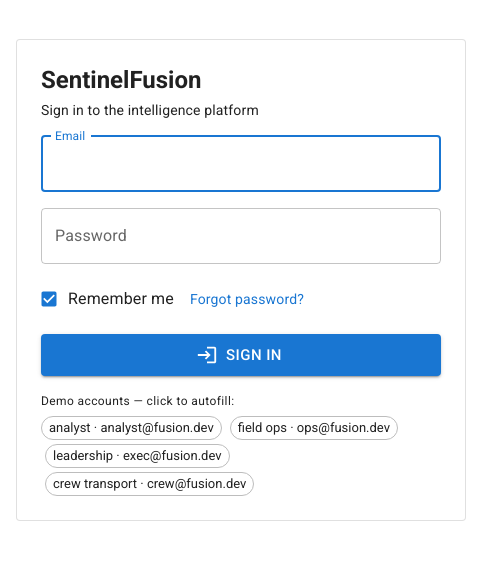
Test: LoginPage › rejects a malformed email and a short password
Type "not-an-email" into the field labelled "Email" at (241, 164), box 41,136 -> 441,192
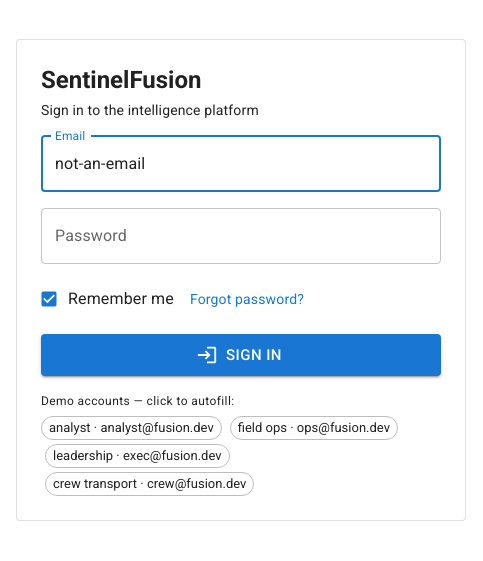
Type "123" into the password field labelled "Password" at (241, 236), box 41,208 -> 441,264
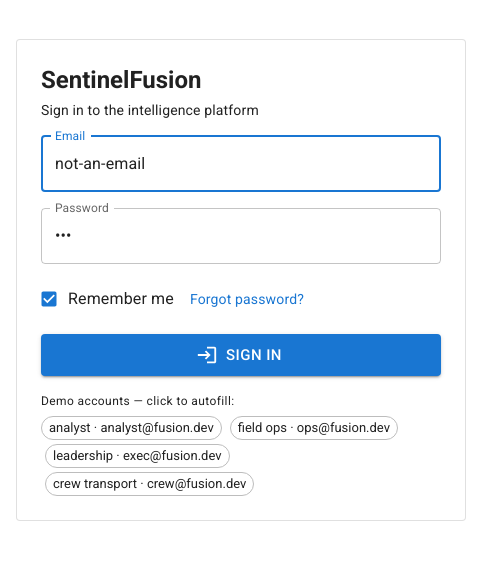
Click the button "Sign in" at (241, 355), box 41,334 -> 441,376
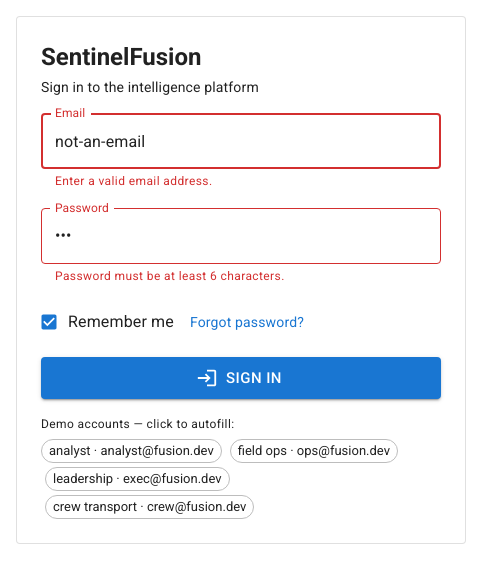
Check: the text "Enter a valid email address." is shown, box 55,174 -> 212,188
Check: the text "Password must be at least 6 characters." is shown, box 55,269 -> 285,283
